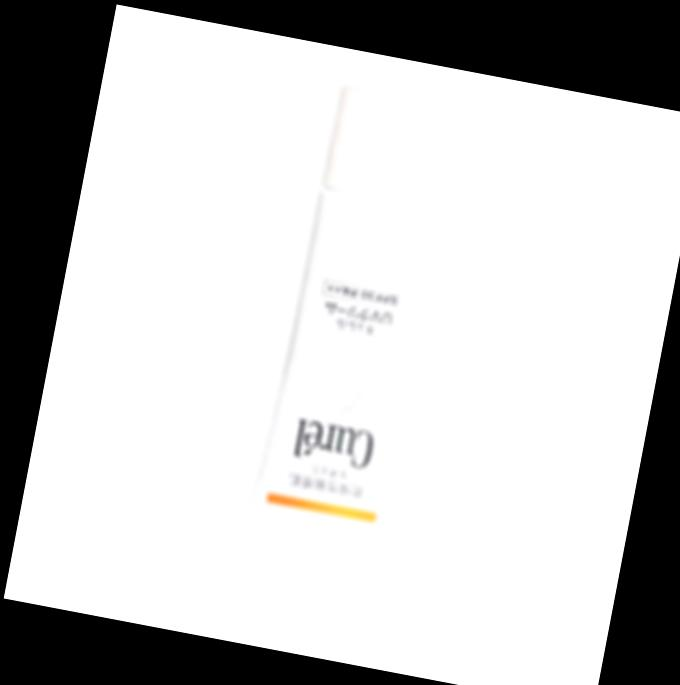cosmetic: (226, 83, 480, 607)
